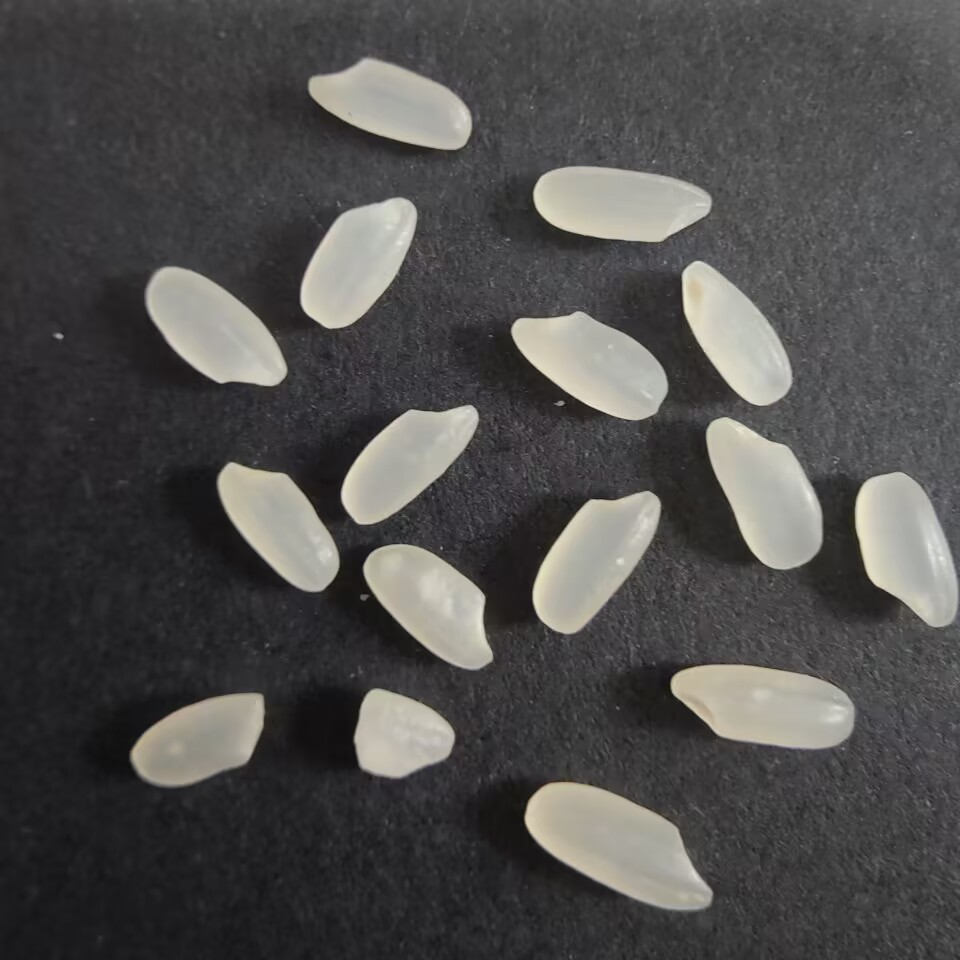broken: (125, 687, 273, 791), (351, 683, 460, 783)
rice: (523, 777, 718, 919), (530, 487, 664, 639), (703, 413, 828, 574), (508, 309, 675, 425), (666, 659, 866, 754), (337, 397, 484, 526), (675, 257, 798, 411), (142, 262, 290, 389), (849, 467, 959, 637), (214, 456, 344, 599), (361, 543, 500, 675), (303, 50, 475, 156), (294, 192, 418, 332), (531, 160, 717, 245)
